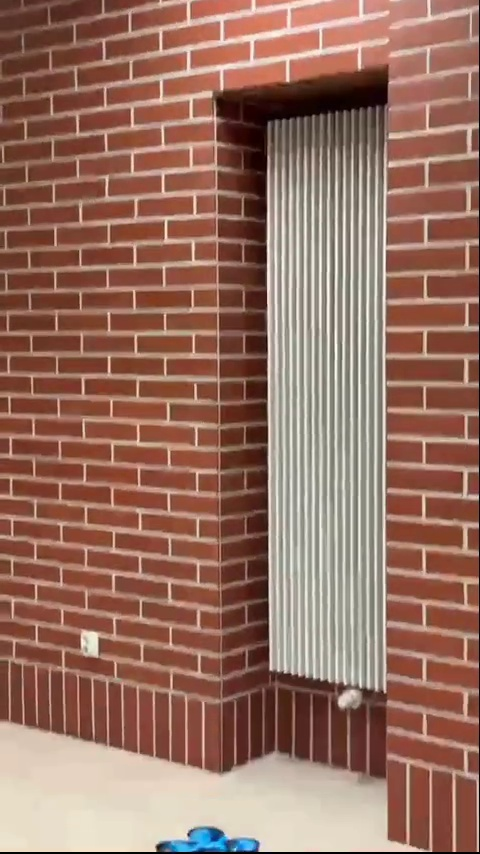drone: (156, 825, 265, 854)
